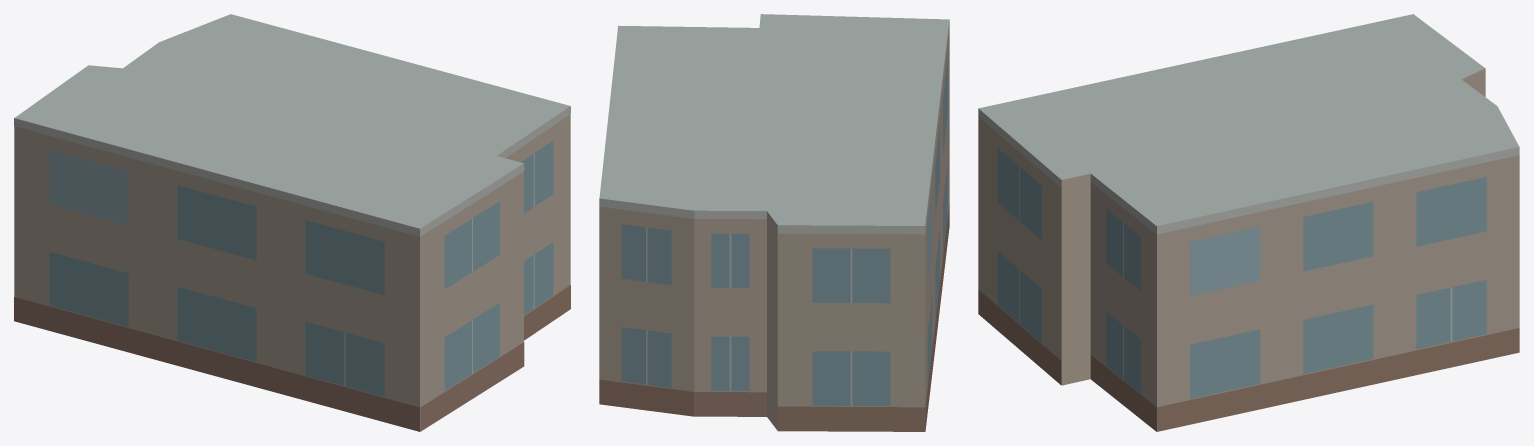
File: survey-upis-32684575.glb
3 renders of one model, left to right at view 1: azimuth 30°, elevation 25°; view 2: azimuth 150°, elevation 25°; view 3: azimuth 270°, elevation 25°, orthographic.
Parts seen in each view (by area): view 1: survey-upis-32684575.tmp; view 2: survey-upis-32684575.tmp; view 3: survey-upis-32684575.tmp.
Part boxes in pixels (bbox=[...]): survey-upis-32684575.tmp: bbox=[14, 14, 570, 431]; survey-upis-32684575.tmp: bbox=[599, 14, 949, 431]; survey-upis-32684575.tmp: bbox=[978, 14, 1519, 431].
Bounding box in the file's own units: 13.52 × 6.1 × 14.57.
